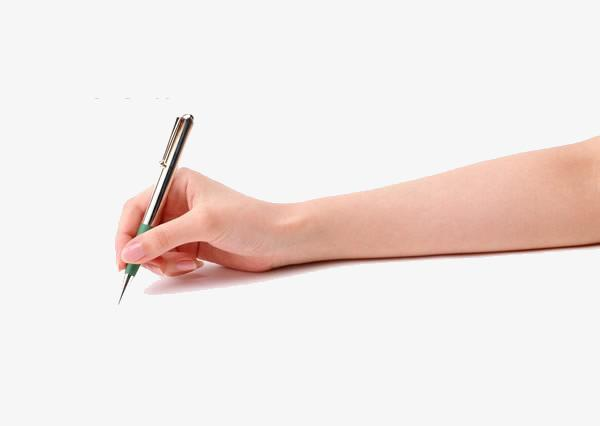no-phone: (107, 111, 303, 299)
